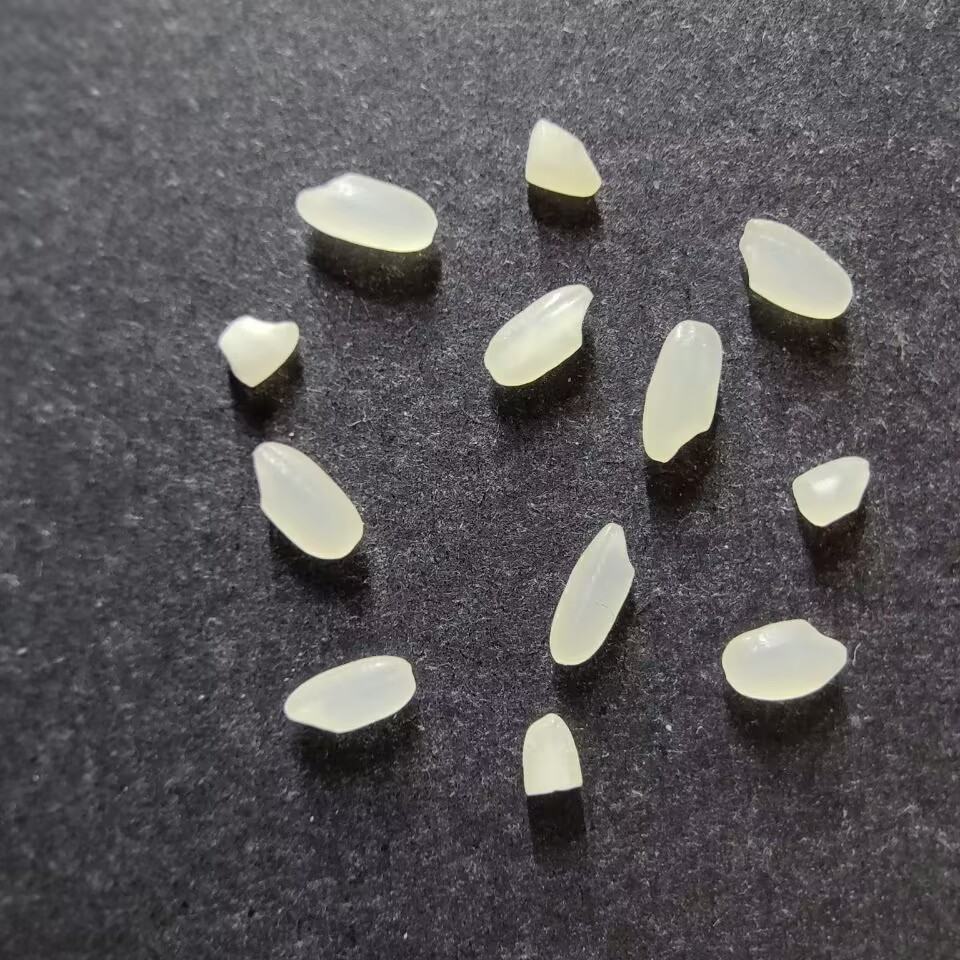broken: (524, 119, 602, 197), (218, 316, 299, 387), (791, 455, 870, 527), (521, 712, 582, 795)
rice: (252, 441, 364, 560), (548, 522, 635, 665), (738, 218, 853, 319), (641, 320, 722, 463), (482, 283, 593, 387), (296, 173, 437, 252), (721, 618, 848, 701), (282, 655, 416, 733)
